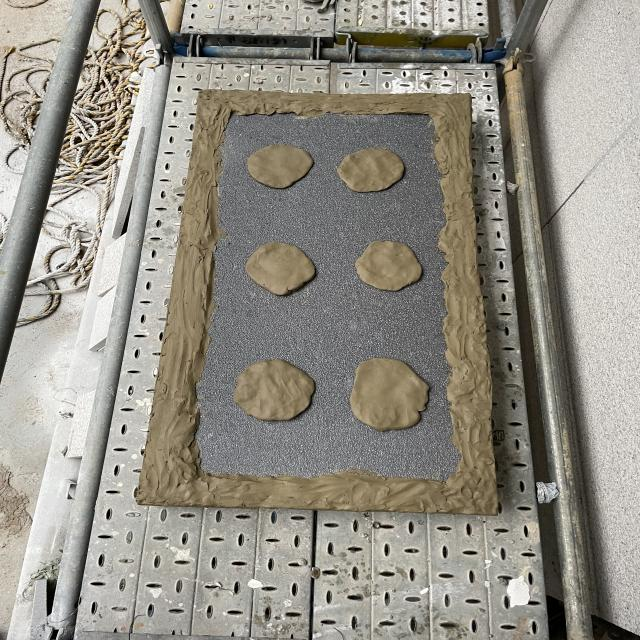dab: (350, 358, 429, 432), (233, 360, 315, 421), (246, 242, 315, 295), (355, 241, 422, 291), (336, 148, 404, 192), (247, 144, 313, 188)
insulation: (137, 89, 498, 516)
